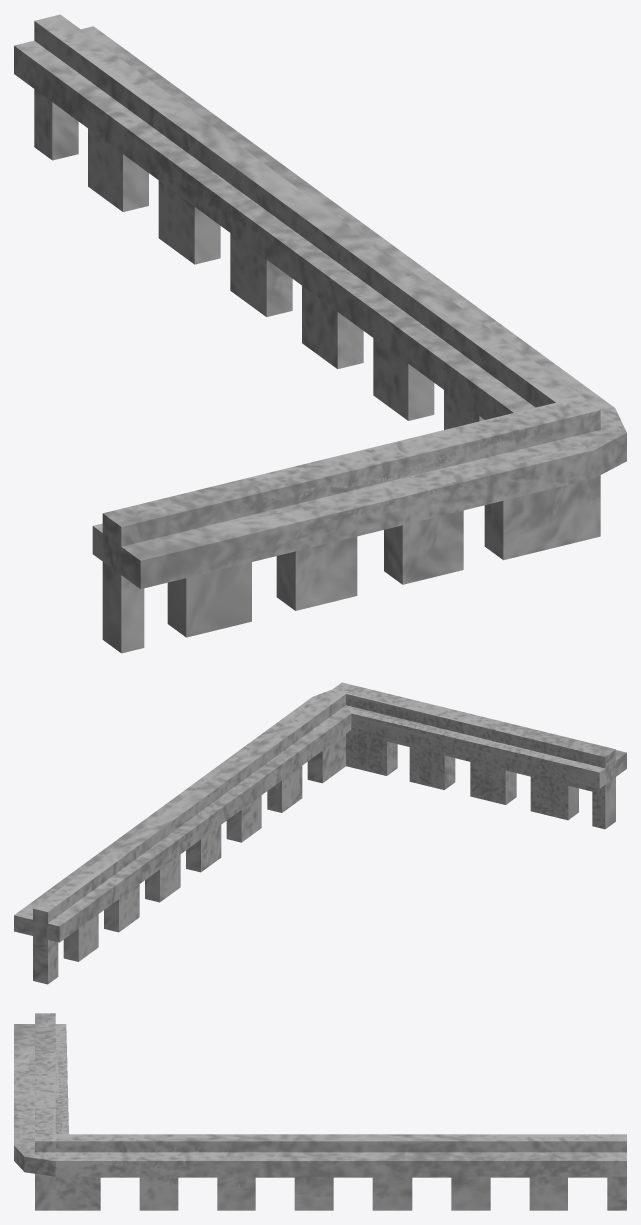
File: Castle_Barrier1.fbx
The picture shows the model from 3 angles, top to bottom: view 1: azimuth 30°, elevation 25°; view 2: azimuth 150°, elevation 25°; view 3: azimuth 270°, elevation 25°; orthographic projection. The views are drawn at different scales.
Visible parts, largest first — view 1: L_harang; view 2: L_harang; view 3: L_harang.
Part boxes in pixels (bbox=[...]): L_harang: bbox=[14, 14, 626, 653]; L_harang: bbox=[14, 682, 626, 984]; L_harang: bbox=[14, 1013, 626, 1210].
Bounding box in the file's own units: 0.0778 × 0.0183 × 0.1471.
